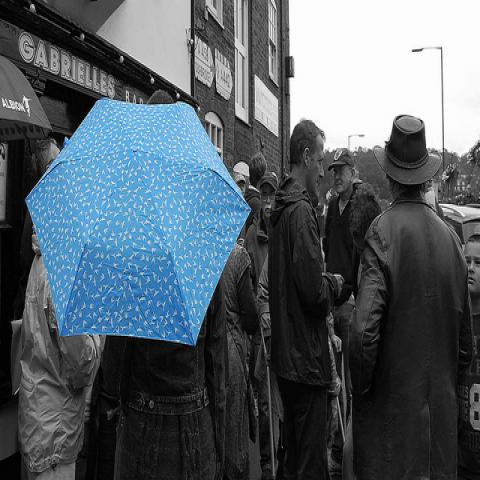car: (440, 203, 480, 247)
